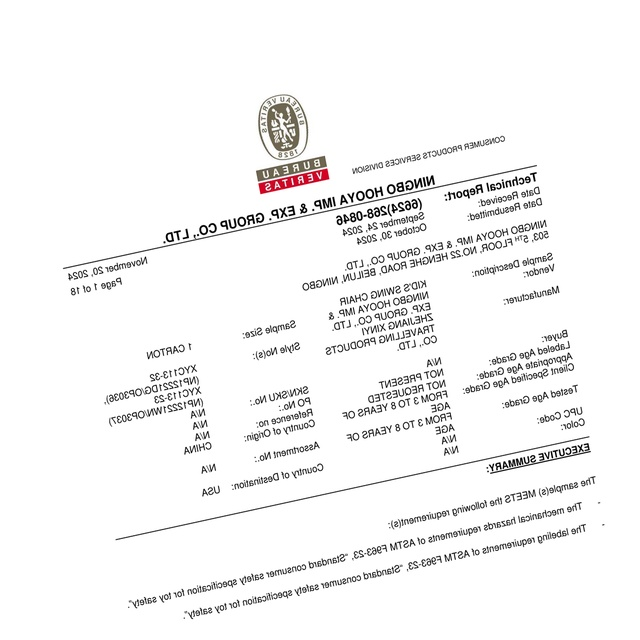bureau_veritas: (253, 89, 328, 194)
